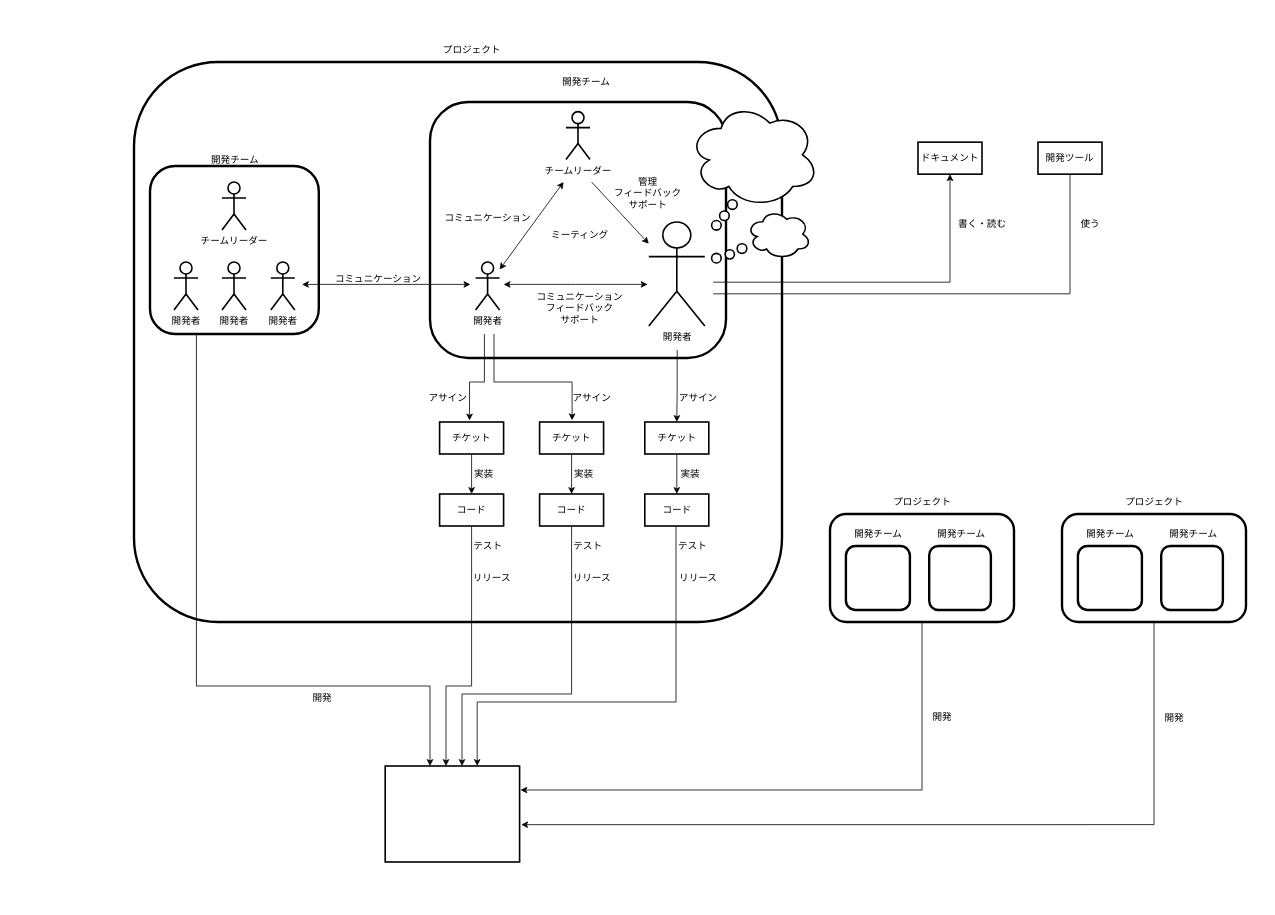
The diagram is 1275 pixels wide and 915 high, and some of its shapes have lost their labels. Each missing label, with the box of its shape:
スキル 知識: (746, 208, 811, 259)
プロダクト: (384, 765, 520, 862)
モチベーション 自信 ストレス 自己効力感: (687, 101, 819, 208)
